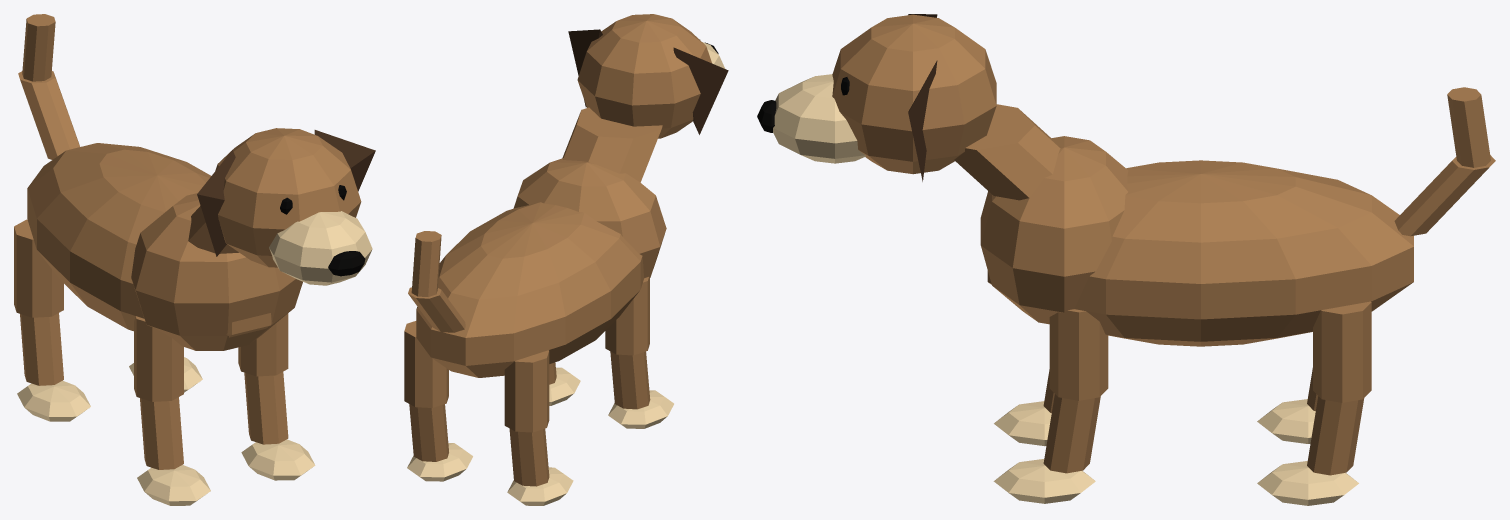
File: terrier_rig_friendly.obj
The picture shows the model from 3 angles, left to right: view 1: azimuth 30°, elevation 25°; view 2: azimuth 150°, elevation 25°; view 3: azimuth 270°, elevation 25°; orthographic projection. The views are drawn at different scales.
Parts seen in each view (by area): view 1: Body_spine_rig_section, Chest_shoulder_loop, Head_skull, Muzzle_beard_area, Front_L_UpperLeg, Back_L_UpperLeg, Tail_base, Front_R_LowerLeg, Front_L_LowerLeg, Back_L_LowerLeg, Front_R_Paw, Back_L_Paw (+8 smaller); view 2: Body_spine_rig_section, Head_skull, Chest_shoulder_loop, Neck_bone_area, Back_L_UpperLeg, Back_R_UpperLeg, Front_L_UpperLeg, Back_L_LowerLeg, Front_L_LowerLeg, Back_R_LowerLeg, Ear_L_rig_flap, Tail_mid (+6 smaller); view 3: Body_spine_rig_section, Head_skull, Chest_shoulder_loop, Neck_bone_area, Back_R_UpperLeg, Muzzle_beard_area, Front_R_UpperLeg, Back_R_LowerLeg, Front_R_LowerLeg, Tail_base, Front_R_Paw, Back_R_Paw (+4 smaller).
Part boxes in pixels (left/top/right/bottom): Body_spine_rig_section: left=27, top=143, right=272, bottom=337; Chest_shoulder_loop: left=131, top=193, right=302, bottom=350; Head_skull: left=215, top=128, right=361, bottom=267; Muzzle_beard_area: left=269, top=211, right=372, bottom=285; Front_L_UpperLeg: left=134, top=316, right=183, bottom=401; Back_L_UpperLeg: left=14, top=219, right=63, bottom=317; Tail_base: left=18, top=71, right=79, bottom=159; Front_R_LowerLeg: left=244, top=372, right=288, bottom=444; Front_L_LowerLeg: left=140, top=397, right=183, bottom=469; Back_L_LowerLeg: left=20, top=313, right=63, bottom=385; Front_R_Paw: left=241, top=439, right=315, bottom=480; Back_L_Paw: left=17, top=380, right=90, bottom=421; Body_spine_rig_section: left=416, top=202, right=644, bottom=377; Head_skull: left=577, top=14, right=711, bottom=138; Chest_shoulder_loop: left=513, top=158, right=666, bottom=277; Neck_bone_area: left=562, top=107, right=662, bottom=182; Back_L_UpperLeg: left=504, top=350, right=549, bottom=432; Back_R_UpperLeg: left=404, top=321, right=448, bottom=407; Front_L_UpperLeg: left=605, top=277, right=649, bottom=355; Back_L_LowerLeg: left=509, top=428, right=549, bottom=486; Front_L_LowerLeg: left=610, top=351, right=650, bottom=409; Back_R_LowerLeg: left=409, top=404, right=448, bottom=461; Ear_L_rig_flap: left=673, top=47, right=728, bottom=134; Tail_mid: left=411, top=231, right=441, bottom=296; Body_spine_rig_section: left=987, top=160, right=1413, bottom=346; Head_skull: left=832, top=14, right=996, bottom=174; Chest_shoulder_loop: left=980, top=136, right=1128, bottom=324; Neck_bone_area: left=954, top=104, right=1060, bottom=200; Back_R_UpperLeg: left=1313, top=301, right=1371, bottom=402; Muzzle_beard_area: left=773, top=74, right=865, bottom=163; Front_R_UpperLeg: left=1049, top=309, right=1108, bottom=400; Back_R_LowerLeg: left=1307, top=396, right=1364, bottom=475; Front_R_LowerLeg: left=1043, top=394, right=1100, bottom=473; Tail_base: left=1394, top=155, right=1495, bottom=236; Front_R_Paw: left=993, top=459, right=1095, bottom=503; Back_R_Paw: left=1257, top=461, right=1358, bottom=505.
Size of the model in its own units: 0.96 by 2.01 by 3.03.
